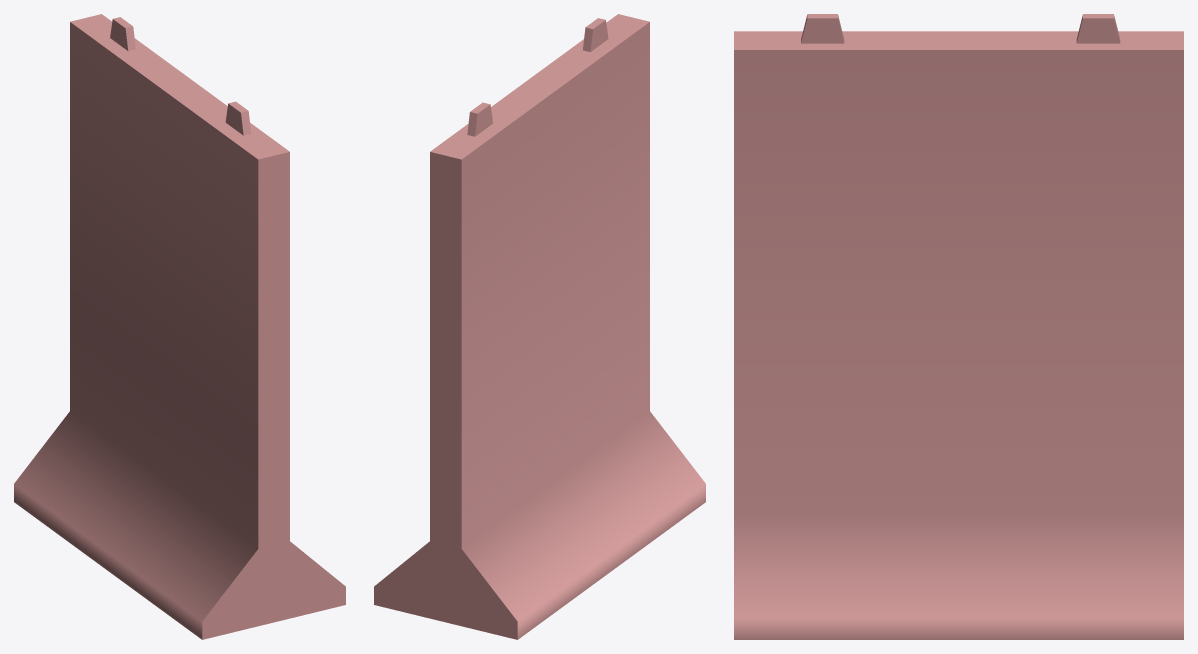
File: ConcreteBarrier_B_A_COL.fbx
3 renders of one model, left to right at view 1: azimuth 30°, elevation 25°; view 2: azimuth 150°, elevation 25°; view 3: azimuth 270°, elevation 25°, orthographic. The views are drawn at different scales.
Parts seen in each view (by area): view 1: ConcreteBarrier_B_A_COL; view 2: ConcreteBarrier_B_A_COL; view 3: ConcreteBarrier_B_A_COL.
Boxes of the visible parts, x1,y1,x2,y2 form: ConcreteBarrier_B_A_COL: [14, 14, 345, 639]; ConcreteBarrier_B_A_COL: [374, 14, 705, 639]; ConcreteBarrier_B_A_COL: [734, 14, 1183, 639].
Bounding box in the file's own units: 88.97 × 289 × 202.
